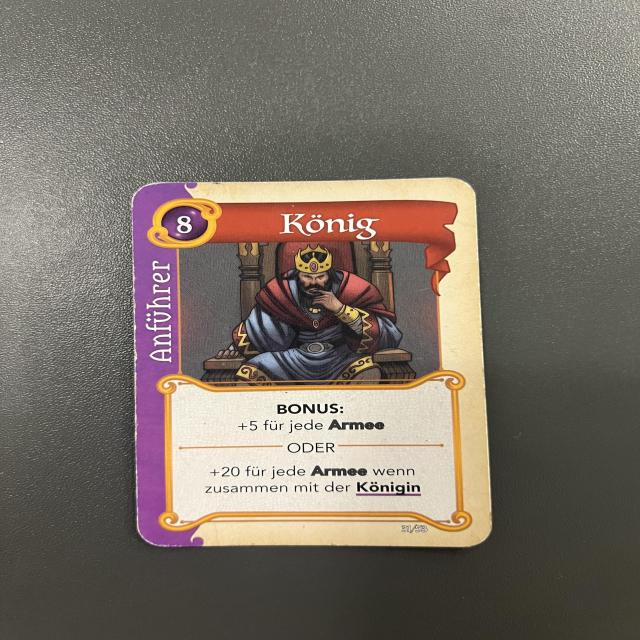King: (133, 178, 487, 550)
